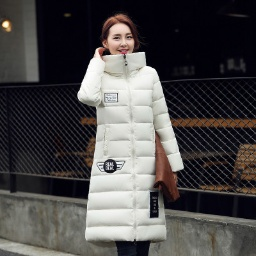face: (91, 9, 159, 64)
